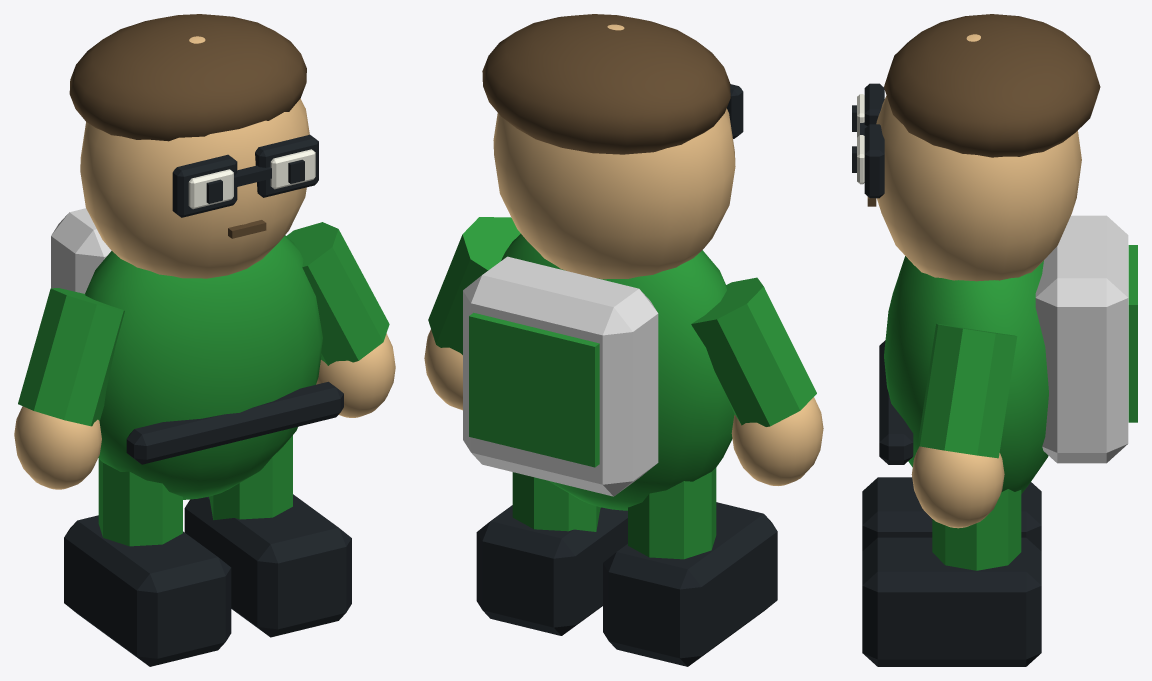
File: hero-explorer.glb
3 views of the same model, side by side, from view 1: azimuth 30°, elevation 25°; view 2: azimuth 150°, elevation 25°; view 3: azimuth 270°, elevation 25° (orthographic). The views are drawn at different scales.
Parts seen in each view (by area): view 1: hero-explorer; view 2: hero-explorer; view 3: hero-explorer.
Part boxes in pixels (box(x1,y1,x2,y2)): hero-explorer: box(14, 14, 395, 666); hero-explorer: box(424, 14, 823, 666); hero-explorer: box(852, 14, 1137, 666).
Bounding box in the file's own units: 0.704 × 1.04 × 0.462.
